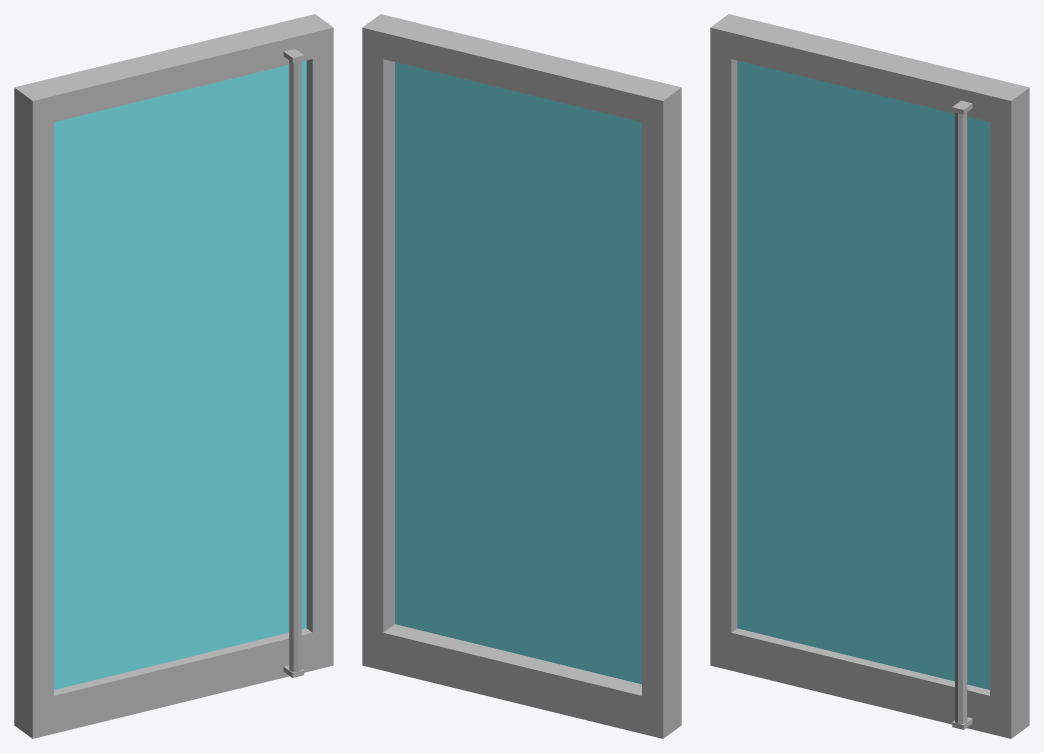
File: MAIN_DOOR.glb
The picture shows the model from 3 angles, left to right: view 1: azimuth 30°, elevation 25°; view 2: azimuth 150°, elevation 25°; view 3: azimuth 330°, elevation 25°; orthographic projection.
Visible parts, largest first — view 1: MAIN_DOOR.001; view 2: MAIN_DOOR.001; view 3: MAIN_DOOR.001.
Part boxes in pixels (x1=…): MAIN_DOOR.001: x1=14, y1=14, x2=333, y2=738; MAIN_DOOR.001: x1=362, y1=14, x2=681, y2=738; MAIN_DOOR.001: x1=710, y1=14, x2=1029, y2=738.
Bounding box in the file's own units: 1.18 × 2.39 × 0.1869.
